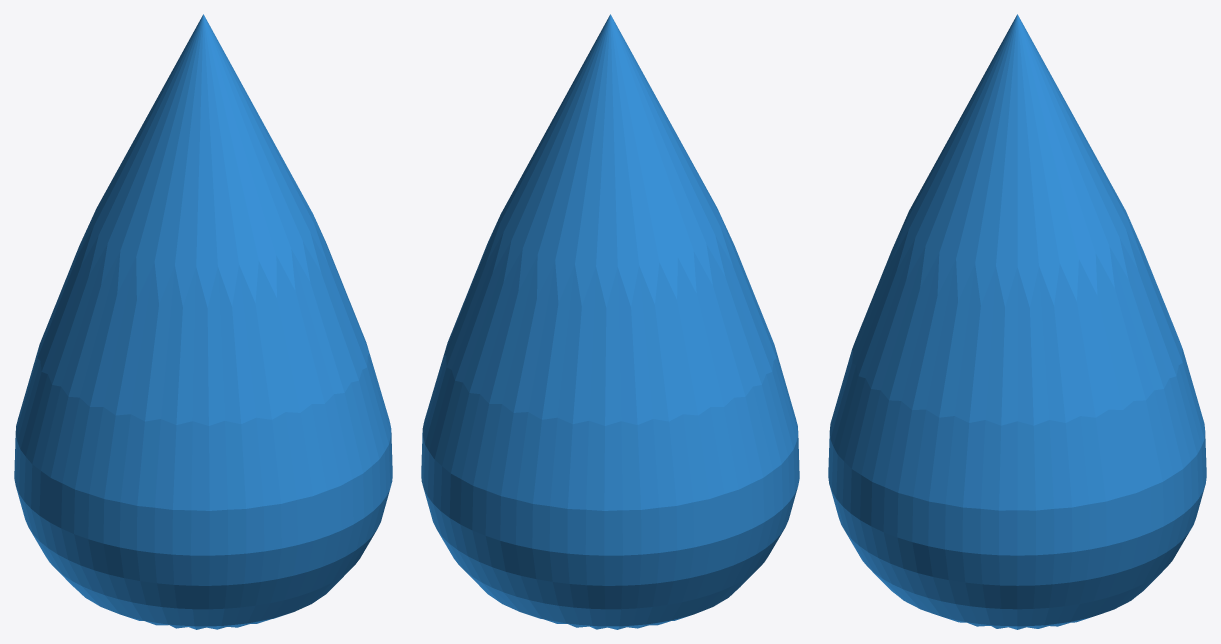
Rendered from Eau.fbx.
The picture shows the model from 3 angles, left to right: view 1: azimuth 30°, elevation 25°; view 2: azimuth 150°, elevation 25°; view 3: azimuth 270°, elevation 25°; orthographic projection.
Visible parts, largest first — view 1: Cône; view 2: Cône; view 3: Cône.
Part boxes in pixels (x1,y1,x2,y2): Cône: (14,14,392,629); Cône: (421,14,799,629); Cône: (828,14,1206,629).
Size of the model in its own units: 30.56 by 52.09 by 30.56.
